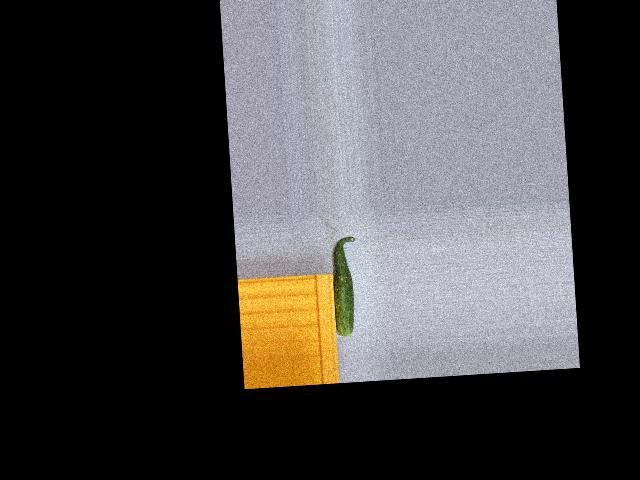cucumber: (329, 235, 361, 336)
